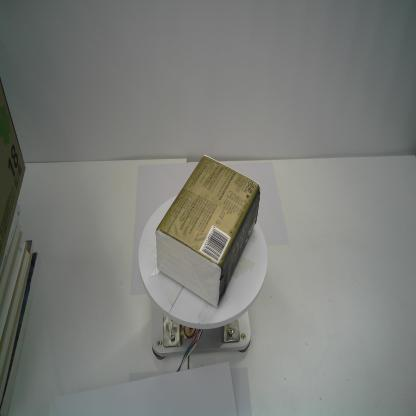Tissue: (154, 152, 261, 310)
